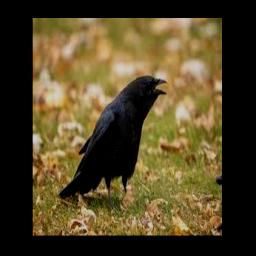Crow: (58, 75, 167, 210)
